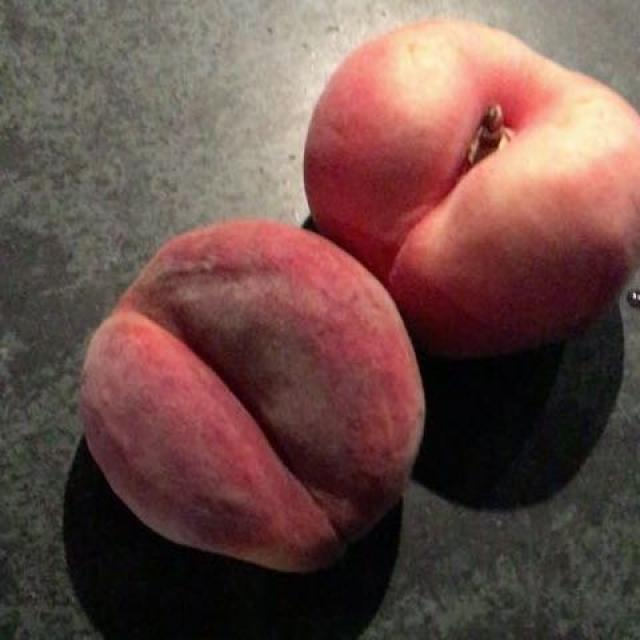peach: (81, 19, 626, 582)
